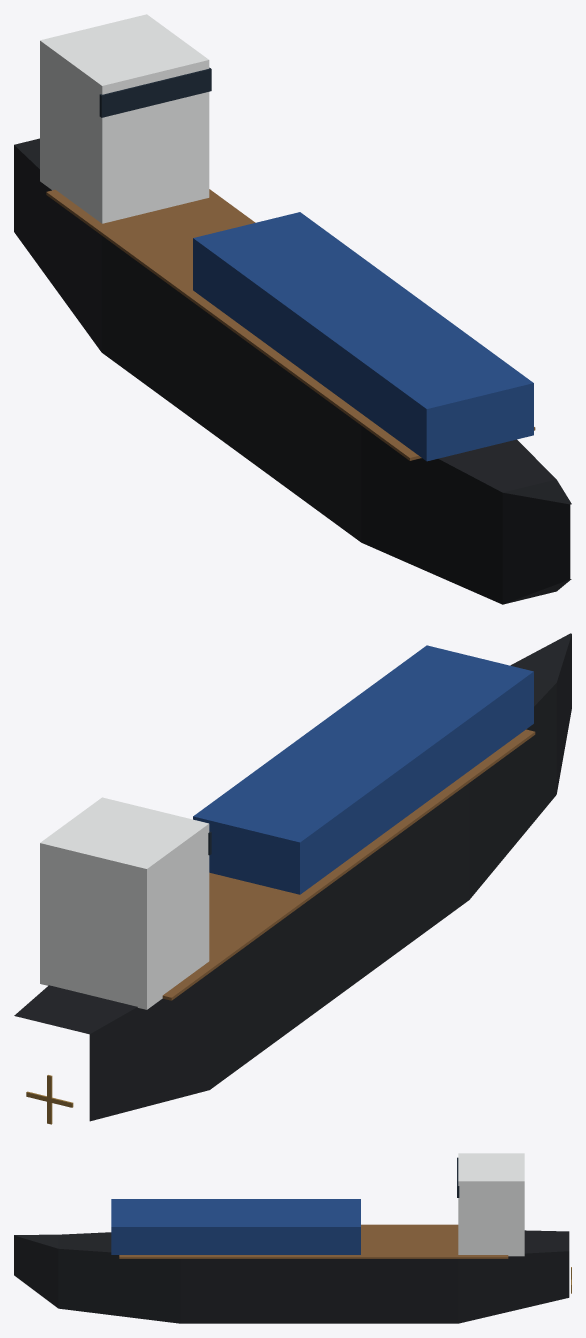
Rendered from veh_naval_merchant_a06_lod2.glb.
The picture shows the model from 3 angles, top to bottom: view 1: azimuth 30°, elevation 25°; view 2: azimuth 150°, elevation 25°; view 3: azimuth 270°, elevation 25°; orthographic projection. The views are drawn at different scales.
Visible parts, largest first — view 1: body; view 2: body; view 3: body.
Part boxes in pixels (<box>): body: <box>14,14,571,604</box>; body: <box>14,633,571,1121</box>; body: <box>14,1153,569,1323</box>.
Size of the model in its own units: 3.51 by 7.13 by 25.33.
